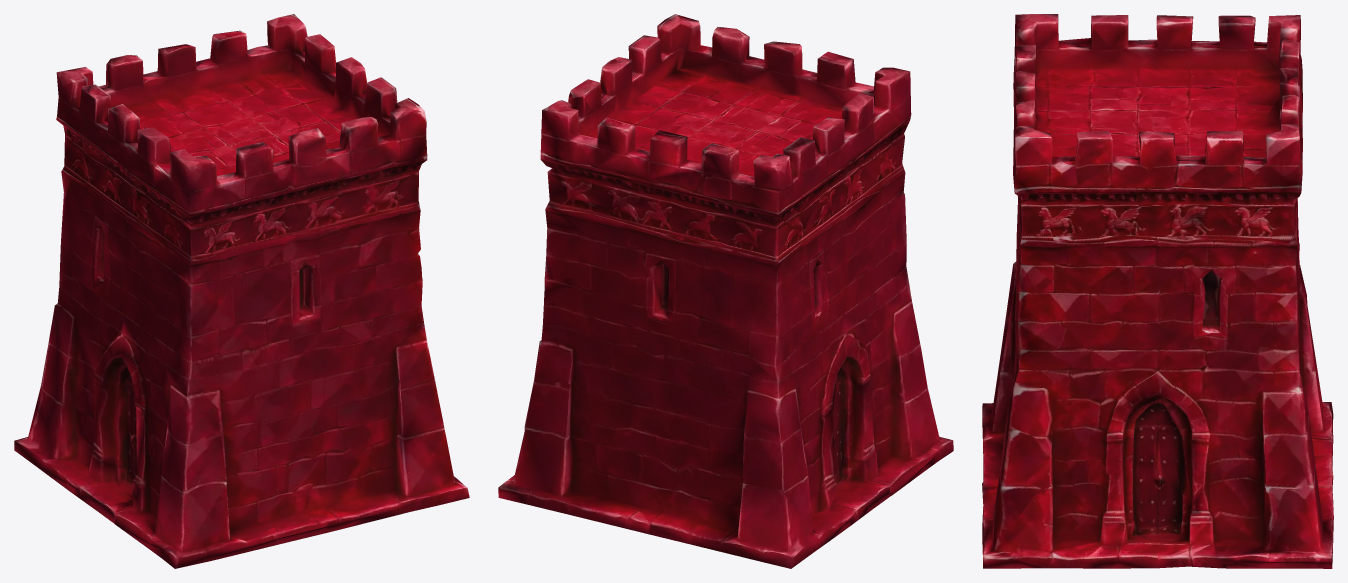
The model's file is castle_tower_short_diamond_red.glb.
The picture shows the model from 3 angles, left to right: view 1: azimuth 30°, elevation 25°; view 2: azimuth 150°, elevation 25°; view 3: azimuth 270°, elevation 25°; orthographic projection. The views are drawn at different scales.
Parts seen in each view (by area): view 1: tripo_node_dd704014-7ac0-40d8-b4ce-ff5478371c1e; view 2: tripo_node_dd704014-7ac0-40d8-b4ce-ff5478371c1e; view 3: tripo_node_dd704014-7ac0-40d8-b4ce-ff5478371c1e.
Boxes of the visible parts, x1,y1,x2,y2 form: tripo_node_dd704014-7ac0-40d8-b4ce-ff5478371c1e: (14, 14, 469, 568); tripo_node_dd704014-7ac0-40d8-b4ce-ff5478371c1e: (498, 14, 953, 568); tripo_node_dd704014-7ac0-40d8-b4ce-ff5478371c1e: (982, 14, 1333, 568).
Bounding box in the file's own units: 0.7833 × 0.9783 × 0.7496.
1 material, 1 textured.
